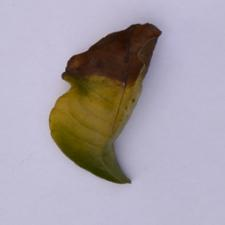Black: (59, 12, 169, 100)
